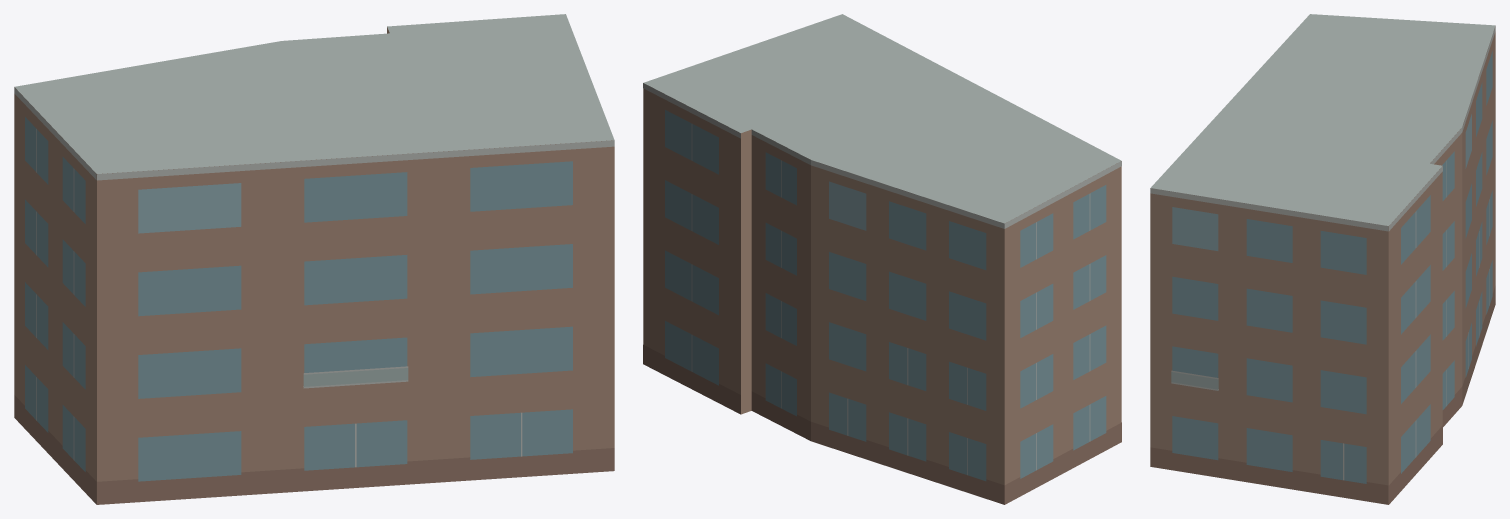
Rendered from survey-upis-32833504.glb.
3 views of the same model, side by side, from view 1: azimuth 30°, elevation 25°; view 2: azimuth 150°, elevation 25°; view 3: azimuth 270°, elevation 25° (orthographic). The views are drawn at different scales.
Visible parts, largest first — view 1: survey-upis-32833504.tmp; view 2: survey-upis-32833504.tmp; view 3: survey-upis-32833504.tmp.
Part boxes in pixels (bbox=[...]): survey-upis-32833504.tmp: bbox=[14, 14, 614, 504]; survey-upis-32833504.tmp: bbox=[643, 14, 1121, 504]; survey-upis-32833504.tmp: bbox=[1150, 14, 1495, 504].
Size of the model in its own units: 20.58 by 12.6 by 14.15.
